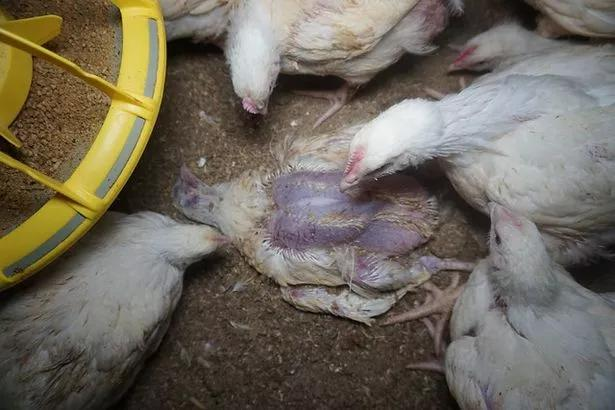AbNormal: (171, 115, 468, 317)
